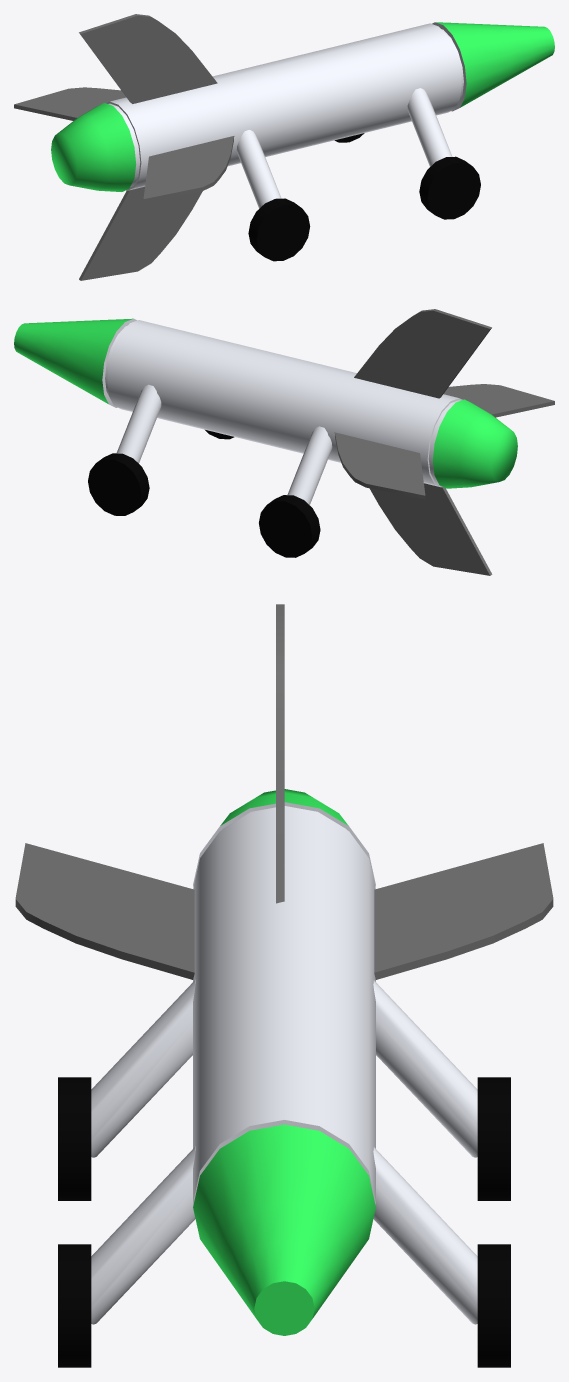
Rendered from Missel_DefFrentefbx.fbx.
3 views of the same model, one above another, from view 1: azimuth 30°, elevation 25°; view 2: azimuth 150°, elevation 25°; view 3: azimuth 270°, elevation 25° (orthographic). The views are drawn at different scales.
Parts seen in each view (by area): view 1: Cylinder; view 2: Cylinder; view 3: Cylinder.
Part boxes in pixels (left/top/right/bottom): Cylinder: left=14, top=14, right=554, bottom=280; Cylinder: left=14, top=309, right=554, bottom=575; Cylinder: left=15, top=604, right=553, bottom=1367.
Bounding box in the file's own units: 288 × 146 × 139.
